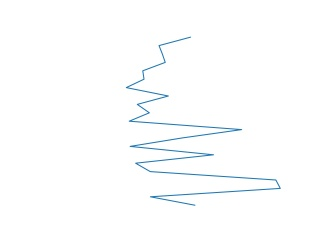crevasseRiverBedLagDeposit: (125, 35, 283, 210)
